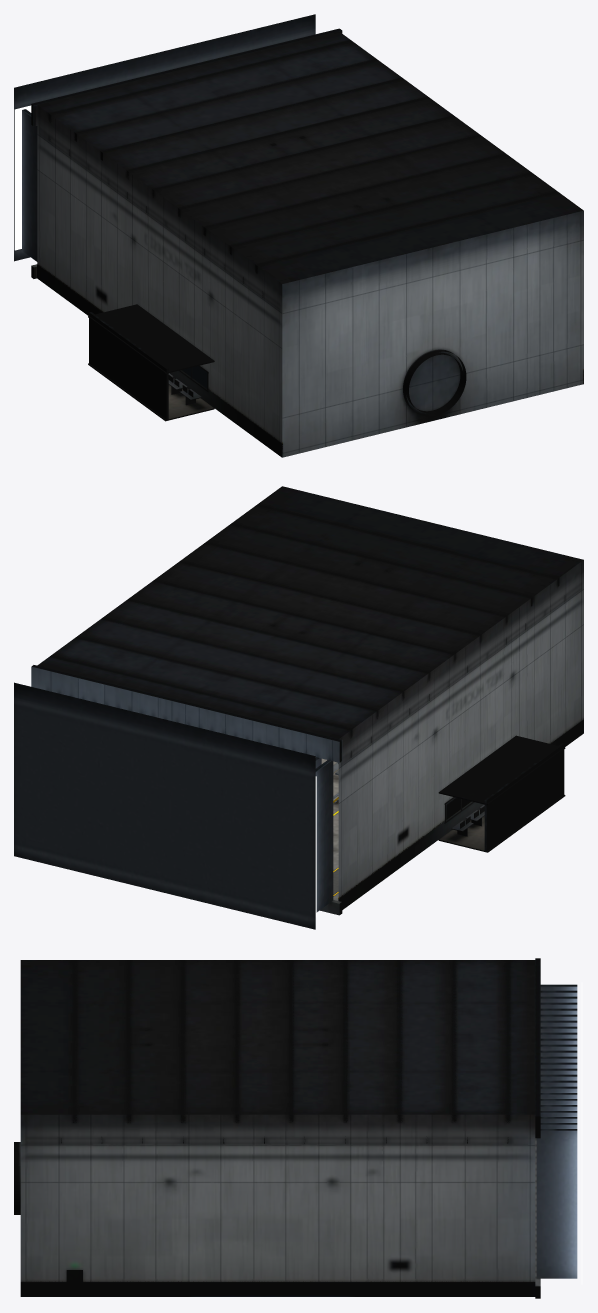
Rendered from testcell.glb.
3 views of the same model, one above another, from view 1: azimuth 30°, elevation 25°; view 2: azimuth 150°, elevation 25°; view 3: azimuth 270°, elevation 25° (orthographic). The views are drawn at different scales.
Visible parts, largest first — view 1: CELL_walls, CELL_props, EMIT_all; view 2: CELL_walls, CELL_props, CELL_floor; view 3: CELL_walls, CELL_props, EMIT_all.
Part boxes in pixels (x1,y1,x2,y2): CELL_walls: (14, 14, 583, 457); CELL_props: (50, 136, 466, 421); EMIT_all: (14, 105, 31, 250); CELL_walls: (14, 486, 583, 929); CELL_props: (273, 564, 565, 852); CELL_floor: (321, 758, 338, 900); CELL_walls: (20, 958, 577, 1298); CELL_props: (14, 1043, 508, 1296); EMIT_all: (581, 982, 582, 1284).
Size of the model in its own units: 31.7 by 15.07 by 42.1.
9 materials, 3 textured.
